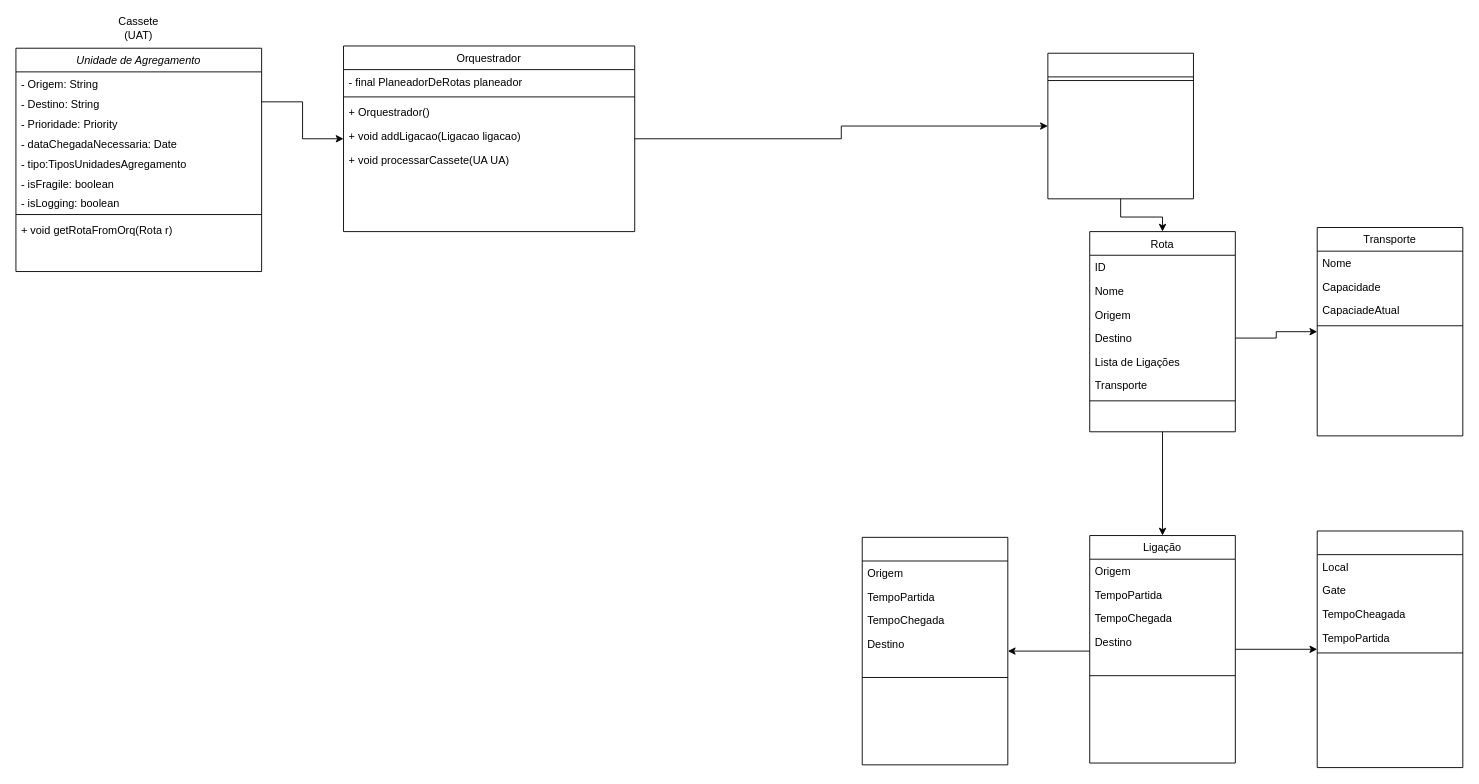
The diagram is 1479 pixels wide and 784 high, and some of its shapes have lost their labels. The shapes that lost their labels are listed below. From the top down, each one's box as (x1, y1, x2, y2) in pixels, then its label:
(1047, 52, 1193, 199): Planeador de Rotas
(861, 536, 1008, 765): Viagem
(1316, 530, 1463, 768): Paragem
